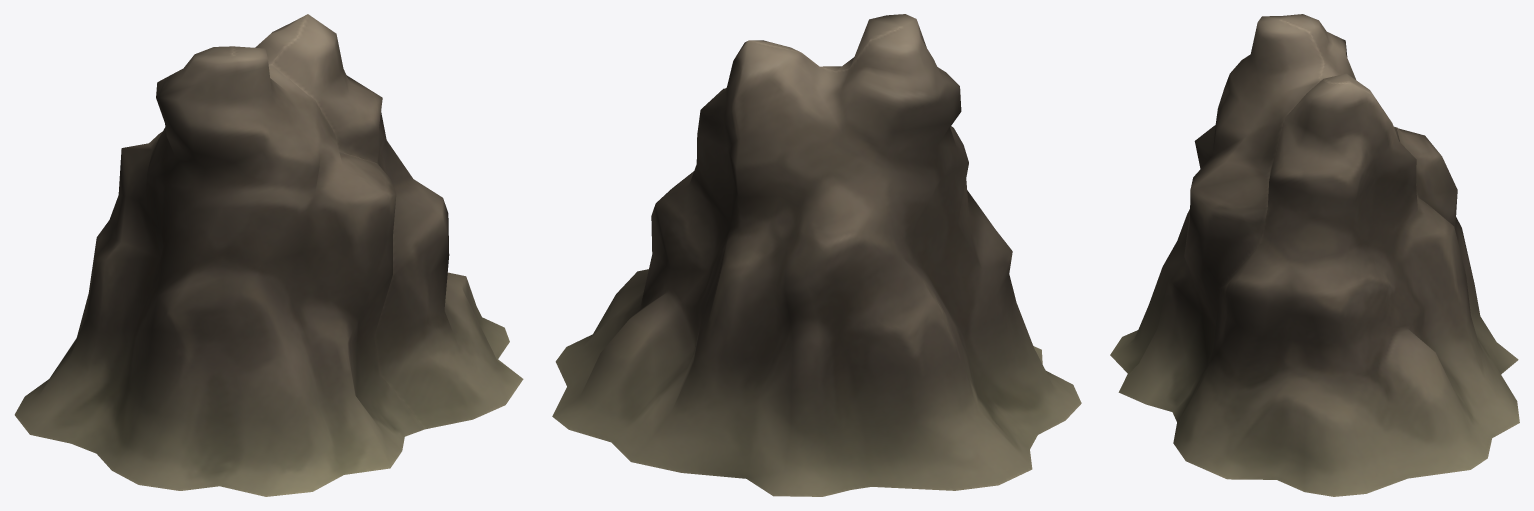
The model's file is Rock_Medium_02.FBX.
The picture shows the model from 3 angles, left to right: view 1: azimuth 30°, elevation 25°; view 2: azimuth 150°, elevation 25°; view 3: azimuth 270°, elevation 25°; orthographic projection. The views are drawn at different scales.
Visible parts, largest first — view 1: Rock_Medium_02; view 2: Rock_Medium_02; view 3: Rock_Medium_02.
Boxes of the visible parts, <box> form: Rock_Medium_02: <box>14,14,523,496</box>; Rock_Medium_02: <box>552,14,1081,496</box>; Rock_Medium_02: <box>1110,14,1519,496</box>.
Size of the model in its own units: 1422 by 1073 by 1164.
